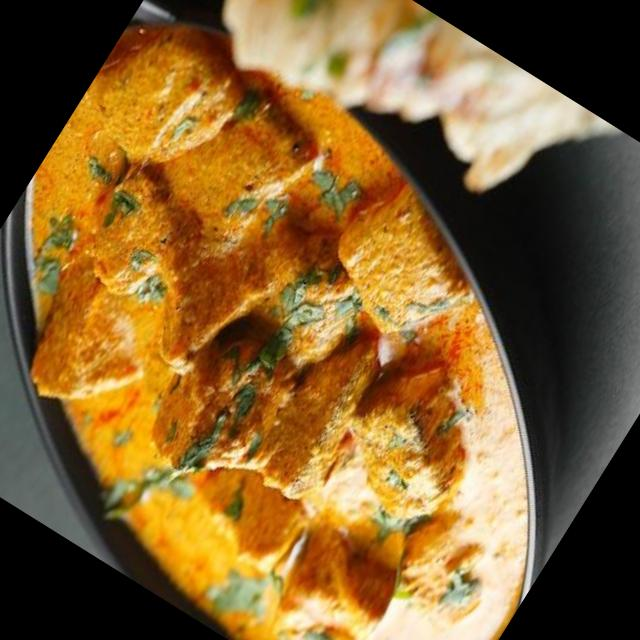roti: (226, 0, 533, 155)
